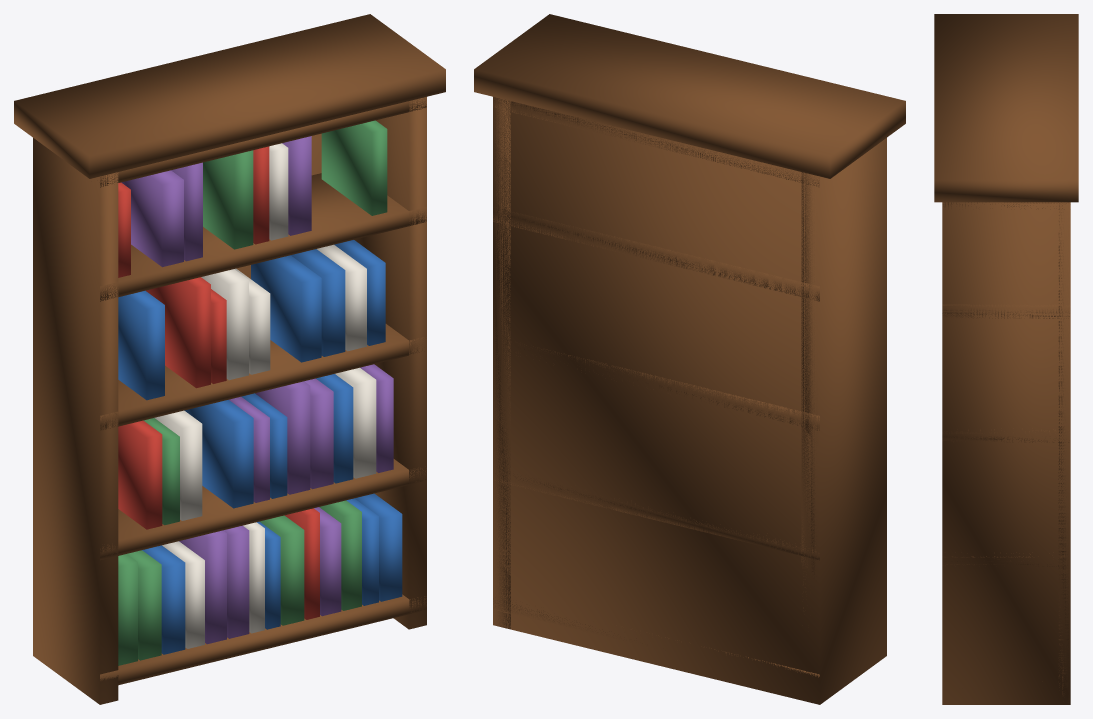
File: bookshelf.glb
The picture shows the model from 3 angles, left to right: view 1: azimuth 30°, elevation 25°; view 2: azimuth 150°, elevation 25°; view 3: azimuth 270°, elevation 25°; orthographic projection. The views are drawn at different scales.
Parts seen in each view (by area): view 1: bookshelf; view 2: bookshelf; view 3: bookshelf.
Boxes of the visible parts, x1=… form: bookshelf: x1=14, y1=14, x2=445, y2=704; bookshelf: x1=474, y1=14, x2=905, y2=704; bookshelf: x1=934, y1=14, x2=1078, y2=704.
Size of the model in its own units: 0.98 by 1.46 by 0.36.
